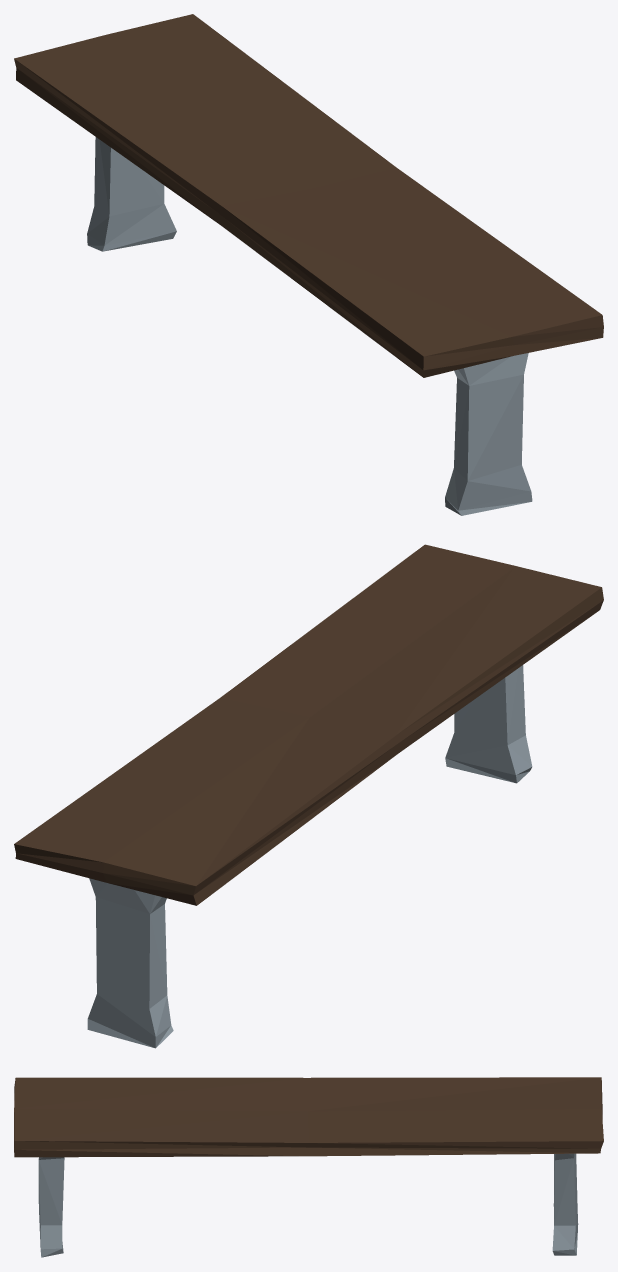
The model's file is Table_Long.fbx.
3 renders of one model, top to bottom at view 1: azimuth 30°, elevation 25°; view 2: azimuth 150°, elevation 25°; view 3: azimuth 270°, elevation 25°, orthographic. The views are drawn at different scales.
Parts seen in each view (by area): view 1: Table_Long; view 2: Table_Long; view 3: Table_Long.
Boxes of the visible parts, x1,y1,x2,y2 form: Table_Long: [14, 14, 603, 515]; Table_Long: [14, 544, 603, 1048]; Table_Long: [14, 1077, 603, 1257].
Bounding box in the file's own units: 2.06 × 2.05 × 8.04.
